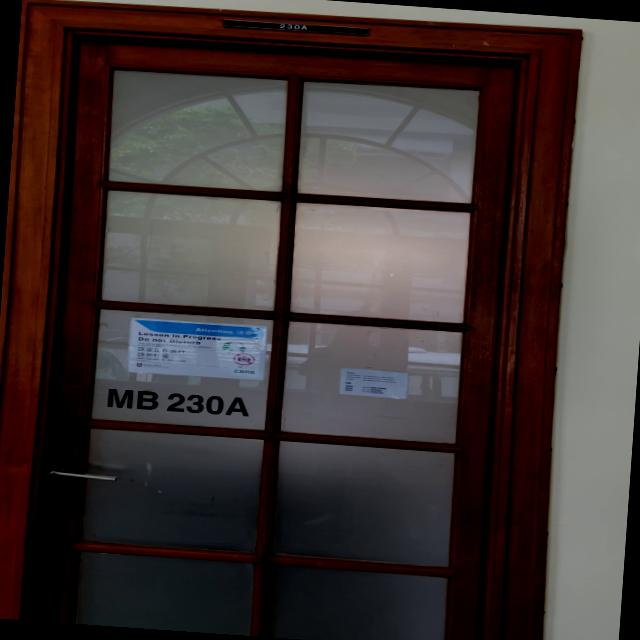room230A: (218, 16, 372, 38)
room230AWindow: (100, 386, 255, 420)
